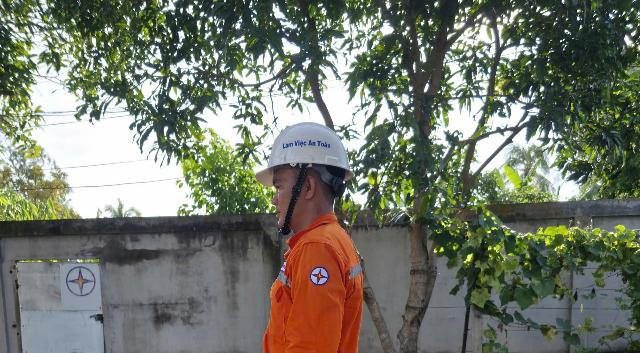helmet: (235, 109, 355, 185)
